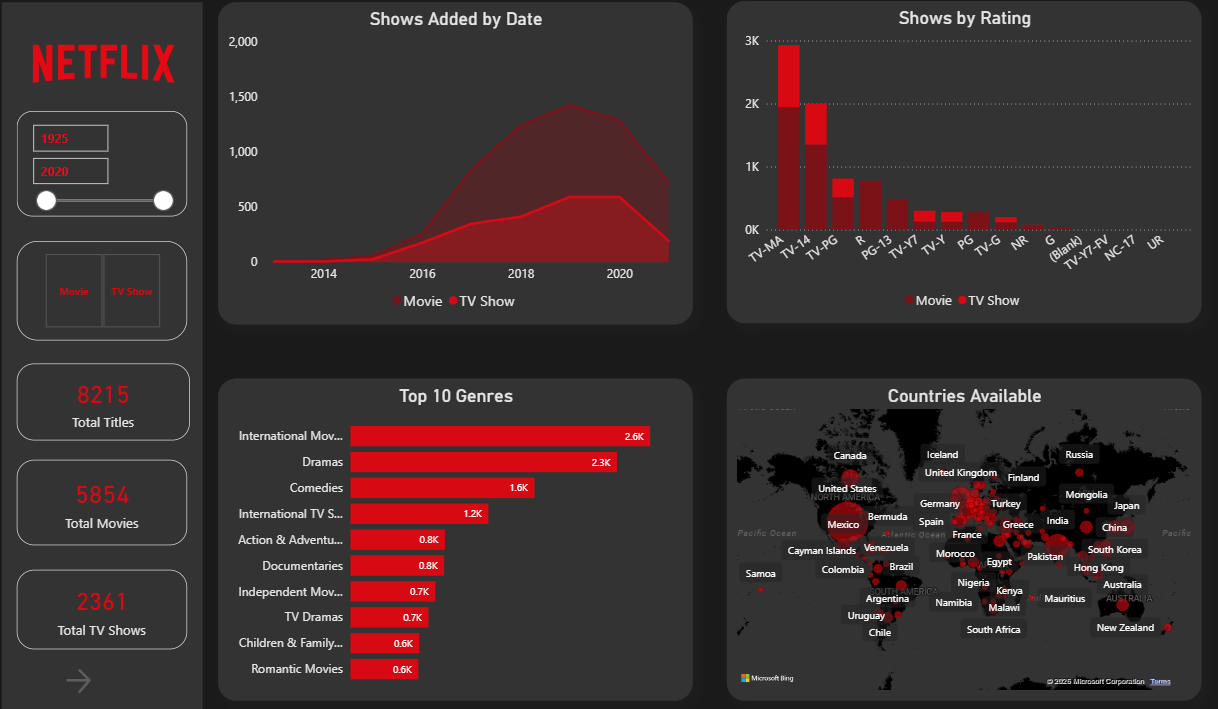

The dashboard page shown, as its layout file describes it:
{"tool":"powerbi","page":{"name":"Dashboard Overview","canvas":[1500,900],"ordinal":0},"visuals":[{"type":"shape","box":[10.6,13.6,242.8,886.7],"z":0},{"type":"areaChart","title":"Shows Added by Date","fields":{"Y":["CountNonNull(netflix_data titles.show_id)"],"Category":["netflix_data titles.date_added.Variation.Date Hierarchy.Year"],"Series":["netflix_data titles.type"]},"box":[271.4,13.6,573.1,389.1],"z":1000},{"type":"columnChart","title":"Shows by Rating","fields":{"Category":["netflix_data titles.rating"],"Y":["CountNonNull(netflix_data titles.show_id)"],"Series":["netflix_data titles.type"]},"box":[884.8,12,573,389],"z":2000},{"type":"clusteredBarChart","title":"Top 10 Genres","fields":{"Category":["netflix_data netflix_listed_in.category"],"Y":["CountNonNull(netflix_data netflix_listed_in.show_id)"]},"box":[270.9,468.1,573,389],"z":3000},{"type":"map","title":"Countries Available","fields":{"Category":["netflix_data countries_released.country"],"Size":["CountNonNull(netflix_data countries_released.show_id)"]},"box":[884.8,468.1,573,389],"z":4000},{"type":"image","box":[13.7,25.7,240.1,118.3],"z":5000},{"type":"slicer","title":"Re","fields":{"Values":["netflix_data titles.release_year"]},"box":[28.9,144.7,205.8,127],"z":6000},{"type":"slicer","fields":{"Values":["netflix_data titles.type"]},"box":[29.1,301.8,205.8,120],"z":7000},{"type":"card","fields":{"Values":["netflix_data titles.Total Titles"]},"box":[29.1,449.2,209.2,92.6],"z":8000},{"type":"card","fields":{"Values":["netflix_data titles.Total TV Shows"]},"box":[29.1,697.9,205.8,96],"z":9000},{"type":"card","fields":{"Values":["netflix_data titles.Total Movies"]},"box":[29.1,565.8,205.8,102.9],"z":10000},{"type":"actionButton","box":[82.3,812.8,99.5,39.4],"z":11000}]}

Visuals, with their boxes on the page's 1500x900 design canvas (x1, y1, x2, y2). These are canvas units, not pixel positions in the 1218x709 screenshot, which may show the page scaled, cropped or inside an application window:
shape: x1=11 y1=14 x2=253 y2=900
"Shows Added by Date" areaChart: x1=271 y1=14 x2=844 y2=403
"Shows by Rating" columnChart: x1=885 y1=12 x2=1458 y2=401
"Top 10 Genres" clusteredBarChart: x1=271 y1=468 x2=844 y2=857
"Countries Available" map: x1=885 y1=468 x2=1458 y2=857
image: x1=14 y1=26 x2=254 y2=144
"Re" slicer: x1=29 y1=145 x2=235 y2=272
slicer - netflix_data titles.type: x1=29 y1=302 x2=235 y2=422
card - netflix_data titles.Total Titles: x1=29 y1=449 x2=238 y2=542
card - netflix_data titles.Total TV Shows: x1=29 y1=698 x2=235 y2=794
card - netflix_data titles.Total Movies: x1=29 y1=566 x2=235 y2=669
actionButton: x1=82 y1=813 x2=182 y2=852
